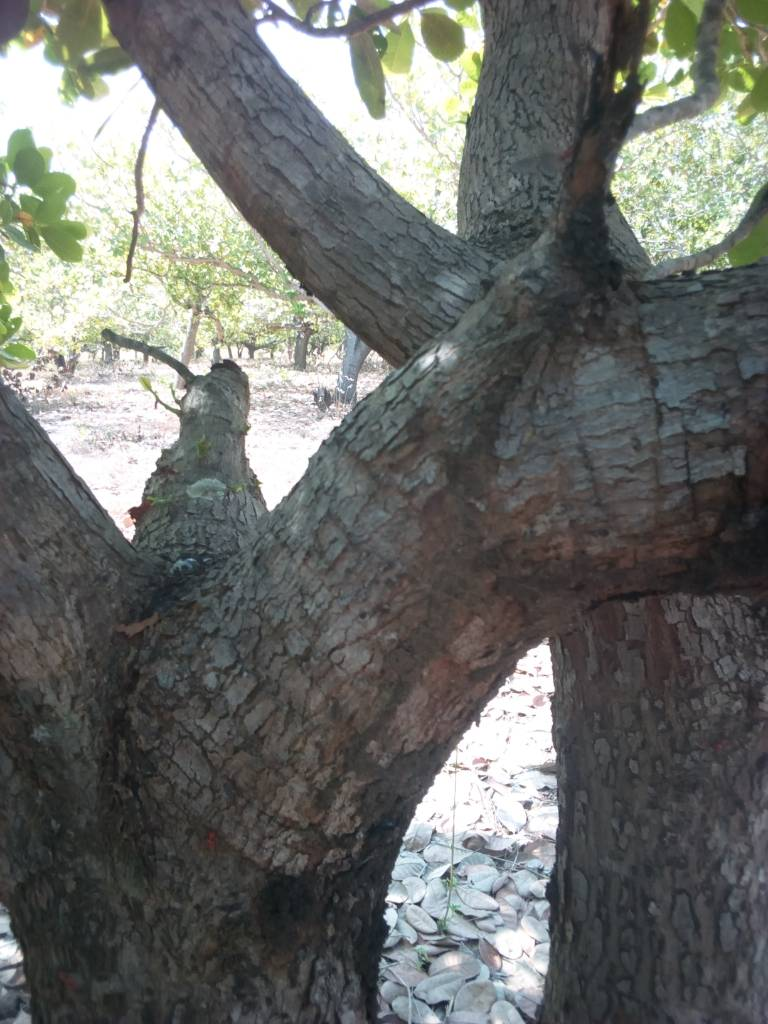Termites: (335, 586, 454, 827), (508, 542, 682, 635)
